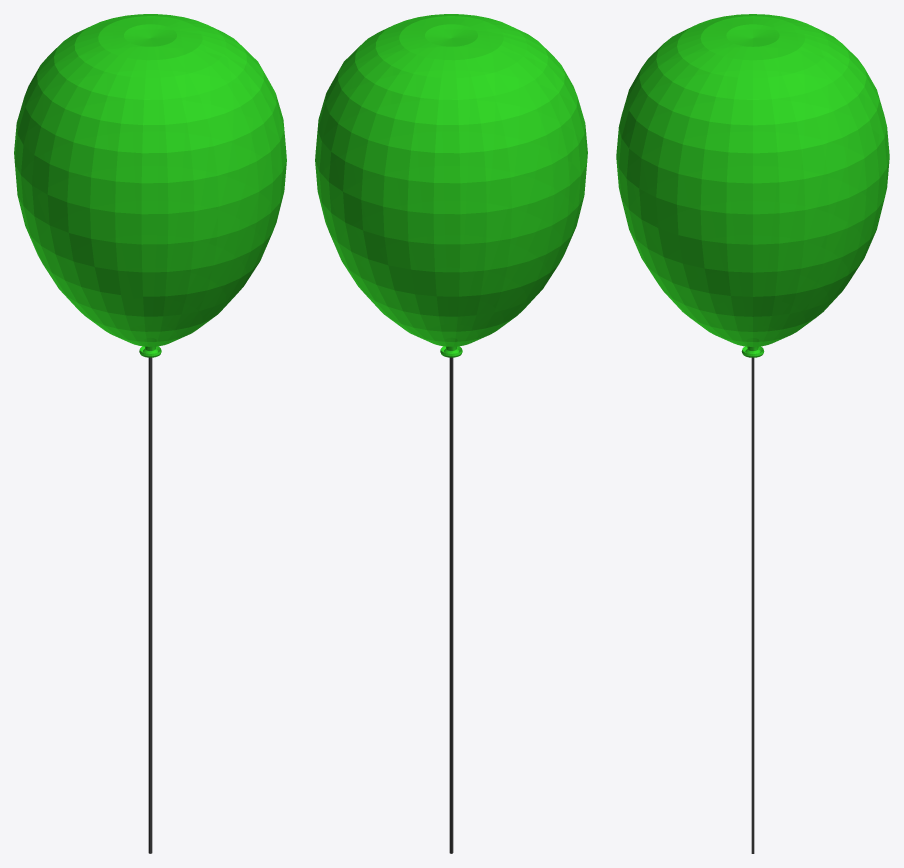
File: baloons23.fbx
3 renders of one model, left to right at view 1: azimuth 30°, elevation 25°; view 2: azimuth 150°, elevation 25°; view 3: azimuth 270°, elevation 25°, orthographic.
Visible parts, largest first — view 1: Balloon, Plane; view 2: Balloon, Plane; view 3: Balloon, Plane.
Part boxes in pixels (left/top/right/bottom): Balloon: left=14, top=14, right=286, bottom=357; Plane: left=148, top=357, right=152, bottom=853; Balloon: left=315, top=14, right=587, bottom=357; Plane: left=449, top=357, right=453, bottom=853; Balloon: left=616, top=14, right=889, bottom=357; Plane: left=751, top=357, right=754, bottom=853.
Size of the model in its own units: 200 by 660 by 200.
